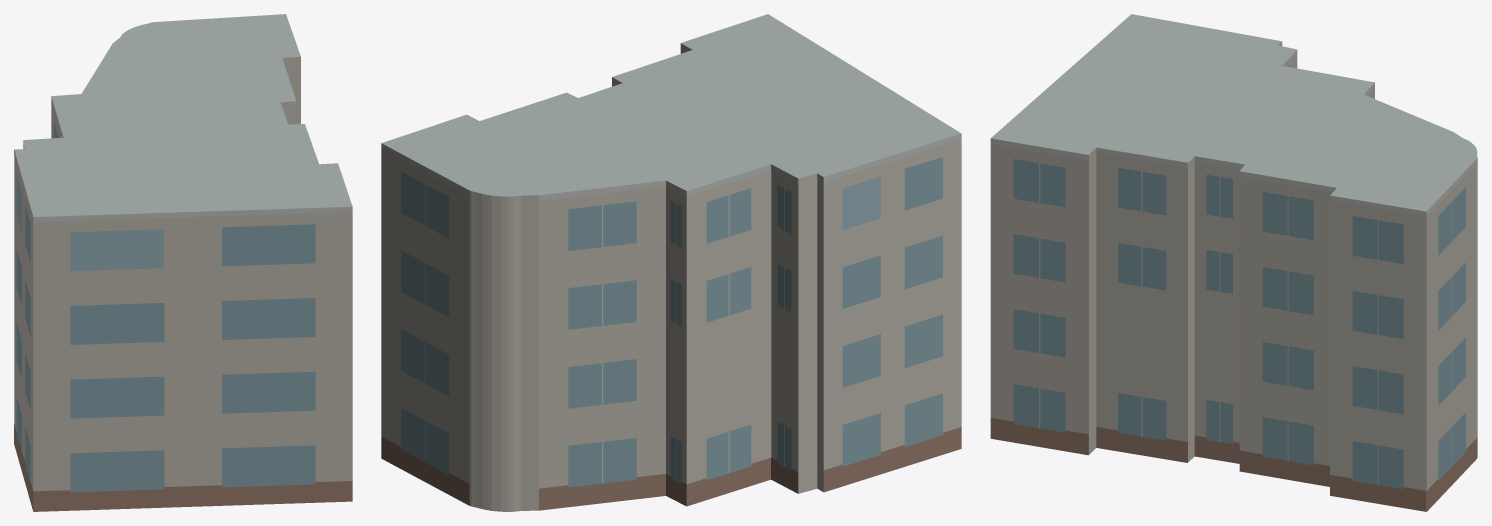
The model's file is survey-upis-32804638.glb.
3 views of the same model, side by side, from view 1: azimuth 30°, elevation 25°; view 2: azimuth 150°, elevation 25°; view 3: azimuth 270°, elevation 25° (orthographic). The views are drawn at different scales.
Parts seen in each view (by area): view 1: survey-upis-32804638.tmp; view 2: survey-upis-32804638.tmp; view 3: survey-upis-32804638.tmp.
Boxes of the visible parts, x1,y1,x2,y2 form: survey-upis-32804638.tmp: [14, 14, 352, 511]; survey-upis-32804638.tmp: [381, 14, 961, 511]; survey-upis-32804638.tmp: [990, 14, 1477, 511].
Bounding box in the file's own units: 19.49 × 13.8 × 20.29.
